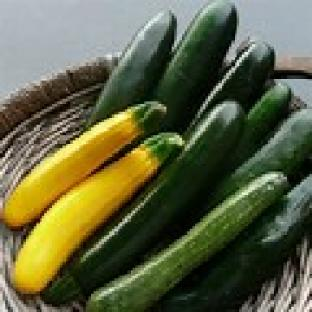Zucchini: (45, 102, 244, 304), (86, 172, 288, 311), (13, 133, 181, 293), (159, 175, 311, 311), (3, 102, 166, 228), (86, 11, 176, 127), (211, 110, 311, 205), (190, 42, 275, 127), (227, 84, 291, 168)
